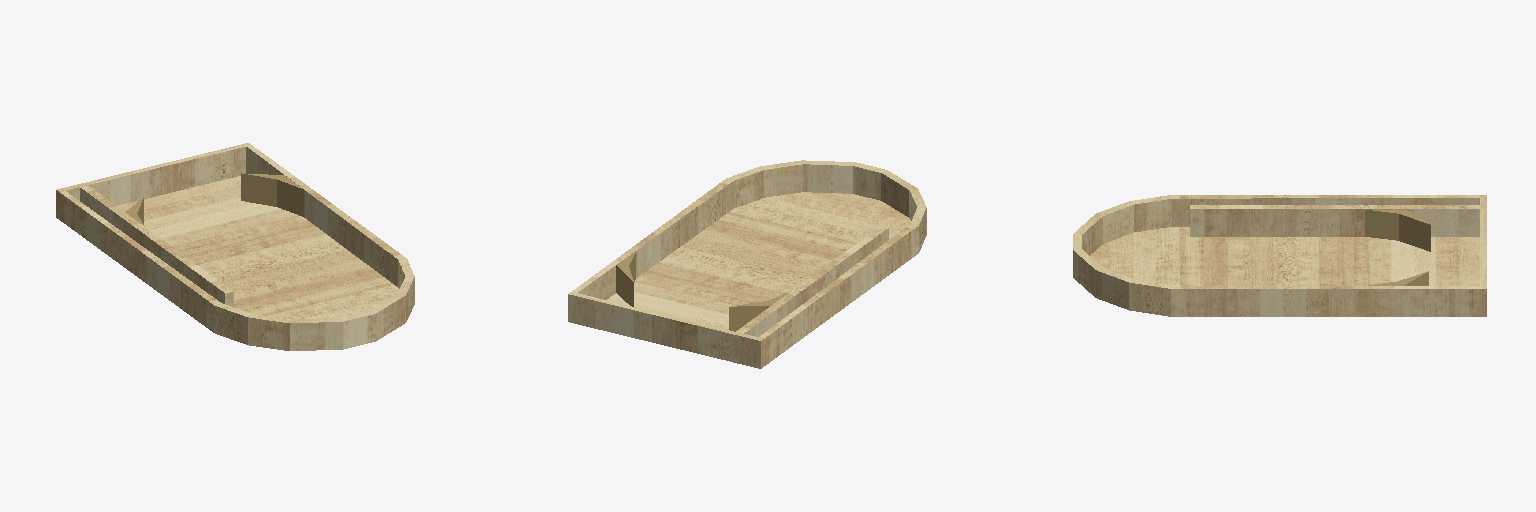
The picture shows the model from 3 angles: view 1: azimuth 30°, elevation 25°; view 2: azimuth 150°, elevation 25°; view 3: azimuth 270°, elevation 25°; orthographic projection.
Parts seen in each view (by area): view 1: Cube.002; view 2: Cube.002; view 3: Cube.002.
Part boxes in pixels (x1,y1,x2,y2): Cube.002: (56,143,414,350); Cube.002: (568,160,926,368); Cube.002: (1073,195,1486,316).
Size of the model in its own units: 14.32 by 2 by 26.66.
Materials: 1 (1 with a texture image).